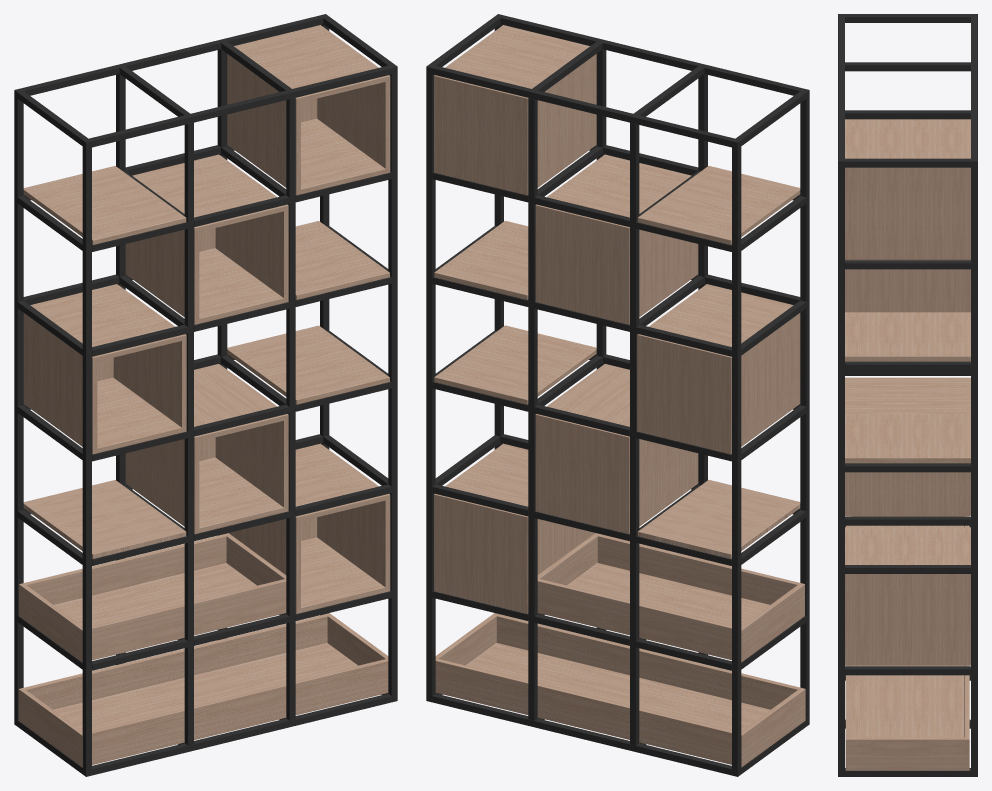
Rendered from Shelf_Boxes.glb.
The picture shows the model from 3 angles, left to right: view 1: azimuth 30°, elevation 25°; view 2: azimuth 150°, elevation 25°; view 3: azimuth 270°, elevation 25°; orthographic projection. The views are drawn at different scales.
Visible parts, largest first — view 1: shelf_wood; view 2: shelf_wood; view 3: shelf_wood.
Part boxes in pixels (x1=…): shelf_wood: x1=14, y1=14, x2=397, y2=776; shelf_wood: x1=426, y1=14, x2=809, y2=776; shelf_wood: x1=838, y1=14, x2=977, y2=776.
Size of the model in its own units: 1.02 by 1.98 by 0.4064.
2 materials, 1 textured.
